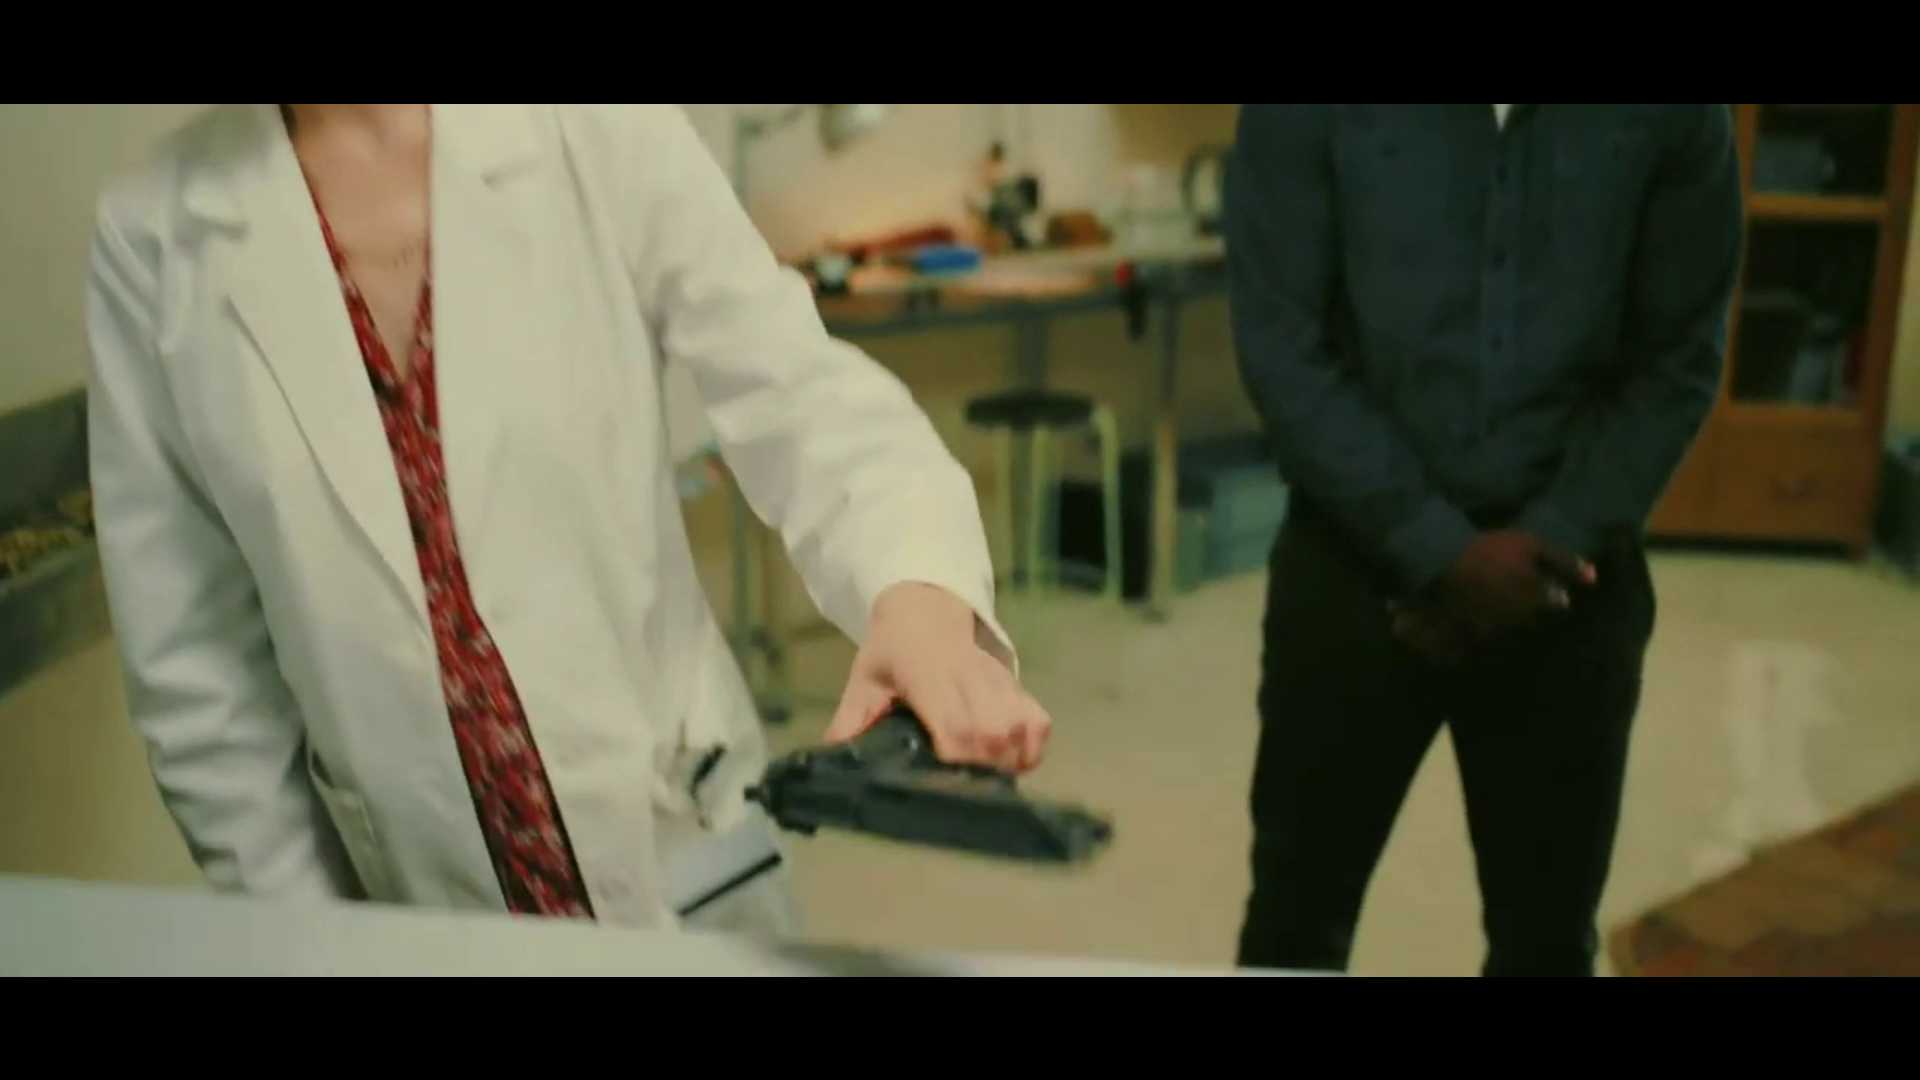SIG P226: (746, 716, 1114, 862)
